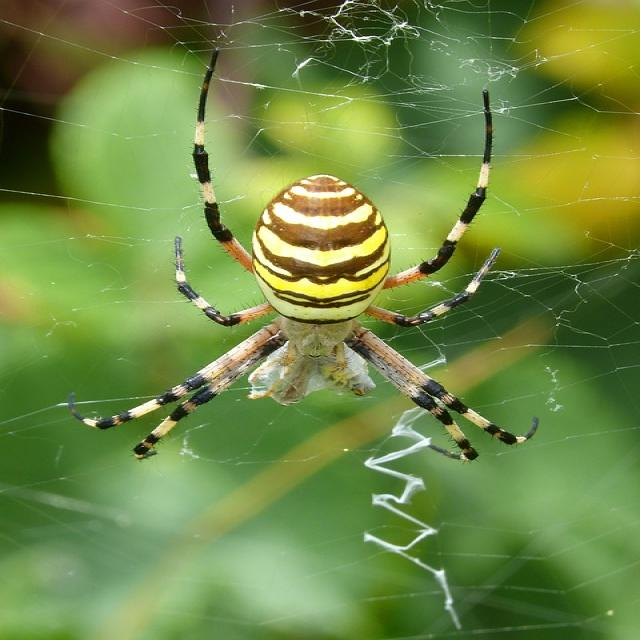spyder: (77, 52, 519, 463)
